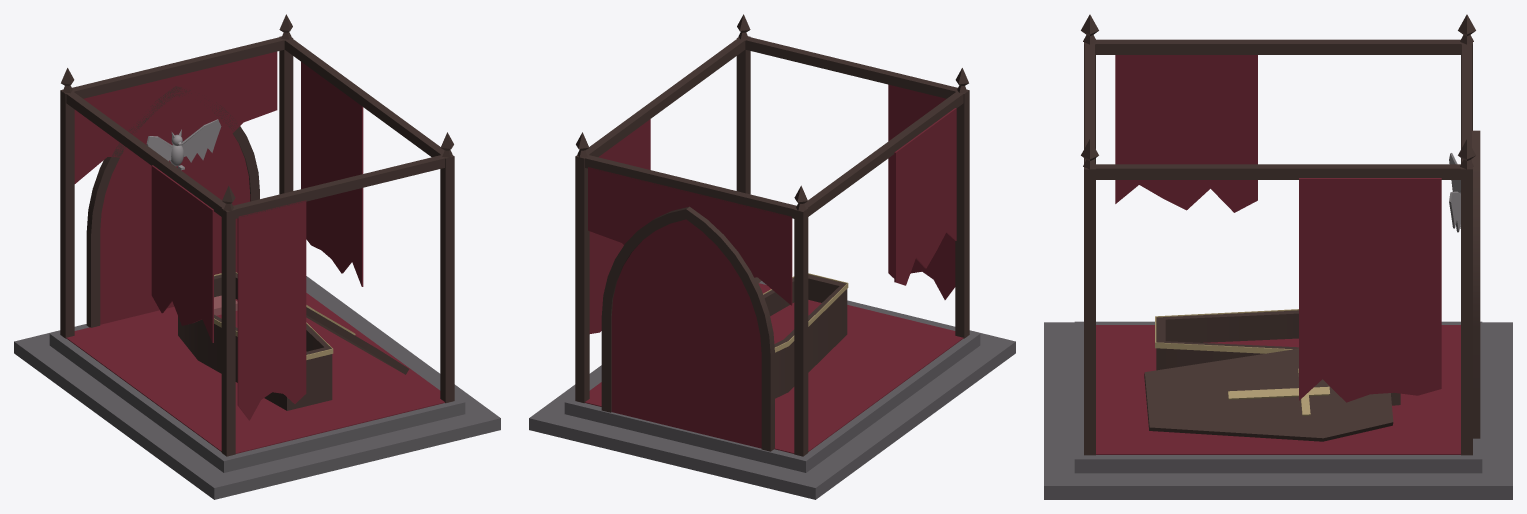
The model's file is coffin_bed.glb.
3 views of the same model, side by side, from view 1: azimuth 30°, elevation 25°; view 2: azimuth 150°, elevation 25°; view 3: azimuth 270°, elevation 25° (orthographic). The views are drawn at different scales.
Parts seen in each view (by area): view 1: CoffinBed; view 2: CoffinBed; view 3: CoffinBed.
Boxes of the visible parts, left/top/right/bottom form: CoffinBed: left=14, top=14, right=500, bottom=499; CoffinBed: left=529, top=14, right=1015, bottom=499; CoffinBed: left=1044, top=14, right=1512, bottom=499.
Bounding box in the file's own units: 3.8 × 3.7 × 4.6.
